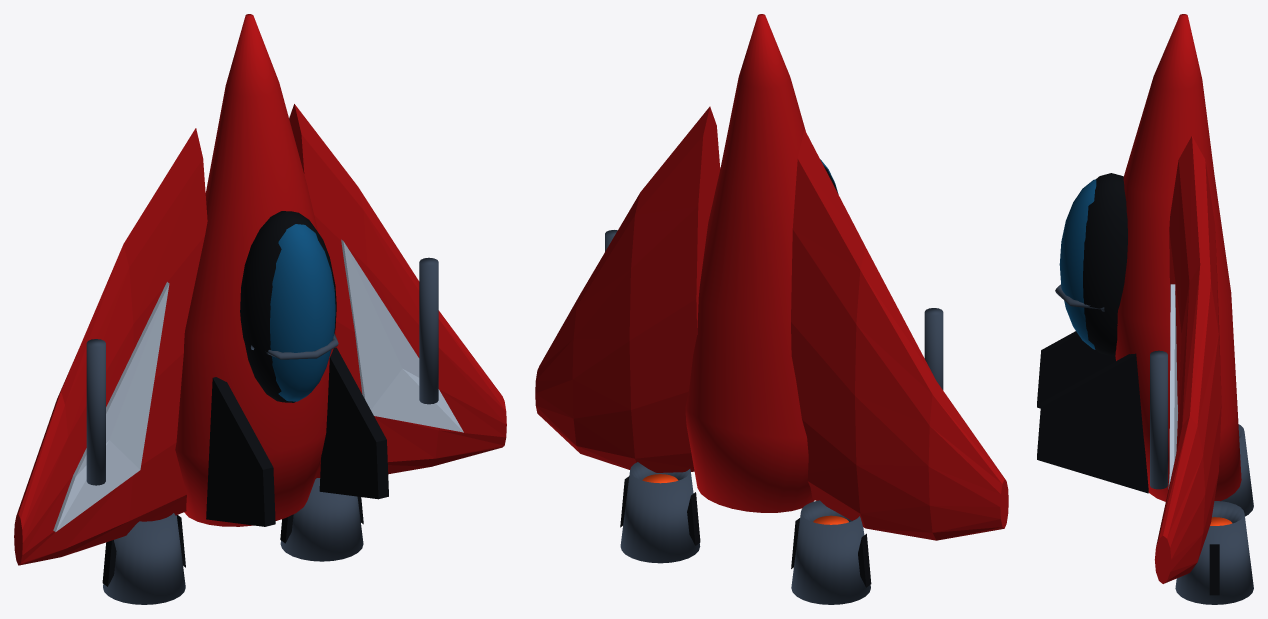
File: nave_delta.obj
The picture shows the model from 3 angles, left to right: view 1: azimuth 30°, elevation 25°; view 2: azimuth 150°, elevation 25°; view 3: azimuth 270°, elevation 25°; orthographic projection. The views are drawn at different scales.
Parts seen in each view (by area): view 1: nave_delta_Fuselaje, nave_delta_Ala_delta_-1, nave_delta_Ala_delta_1, nave_delta_Cristal_cabina, nave_delta_Panel_blanco_1, nave_delta_Panel_blanco_-1, nave_delta_Timon_-1, nave_delta_Timon_1, nave_delta_Marco_cabina, nave_delta_Motor_-1_tobera, nave_delta_Motor_1_tobera, nave_delta_Canon_-1 (+1 smaller); view 2: nave_delta_Ala_delta_-1, nave_delta_Fuselaje, nave_delta_Ala_delta_1, nave_delta_Motor_-1_tobera, nave_delta_Motor_1_tobera, nave_delta_Canon_-1; view 3: nave_delta_Fuselaje, nave_delta_Ala_delta_1, nave_delta_Timon_1, nave_delta_Marco_cabina, nave_delta_Motor_1_tobera, nave_delta_Cristal_cabina, nave_delta_Timon_-1, nave_delta_Canon_1, nave_delta_Panel_blanco_1, nave_delta_Motor_-1_tobera, nave_delta_Motor_1_aleta_1.
Boxes of the visible parts, box(x1,y1,x2,y2) form: nave_delta_Fuselaje: box(175, 14, 335, 526); nave_delta_Ala_delta_-1: box(14, 128, 207, 565); nave_delta_Ala_delta_1: box(289, 104, 506, 478); nave_delta_Cristal_cabina: box(270, 224, 335, 401); nave_delta_Panel_blanco_1: box(341, 239, 463, 432); nave_delta_Panel_blanco_-1: box(53, 282, 169, 531); nave_delta_Timon_-1: box(206, 377, 275, 526); nave_delta_Timon_1: box(319, 347, 388, 499); nave_delta_Marco_cabina: box(240, 211, 336, 402); nave_delta_Motor_-1_tobera: box(103, 513, 185, 604); nave_delta_Motor_1_tobera: box(280, 478, 363, 561); nave_delta_Canon_-1: box(86, 339, 105, 485); nave_delta_Ala_delta_-1: box(791, 129, 1008, 540); nave_delta_Fuselaje: box(685, 14, 814, 512); nave_delta_Ala_delta_1: box(535, 106, 720, 472); nave_delta_Motor_-1_tobera: box(791, 500, 870, 604); nave_delta_Motor_1_tobera: box(620, 462, 700, 563); nave_delta_Canon_-1: box(924, 308, 943, 390); nave_delta_Fuselaje: box(1115, 14, 1241, 501); nave_delta_Ala_delta_1: box(1154, 136, 1221, 583); nave_delta_Timon_1: box(1037, 353, 1148, 493); nave_delta_Marco_cabina: box(1083, 173, 1127, 356); nave_delta_Motor_1_tobera: box(1175, 501, 1253, 604); nave_delta_Cristal_cabina: box(1059, 179, 1096, 349); nave_delta_Timon_-1: box(1037, 331, 1115, 408); nave_delta_Canon_1: box(1150, 350, 1167, 489); nave_delta_Panel_blanco_1: box(1168, 284, 1177, 489); nave_delta_Motor_-1_tobera: box(1220, 424, 1253, 516); nave_delta_Motor_1_aleta_1: box(1209, 544, 1219, 595).
Size of the model in its own units: 1.28 by 1.42 by 0.525.
